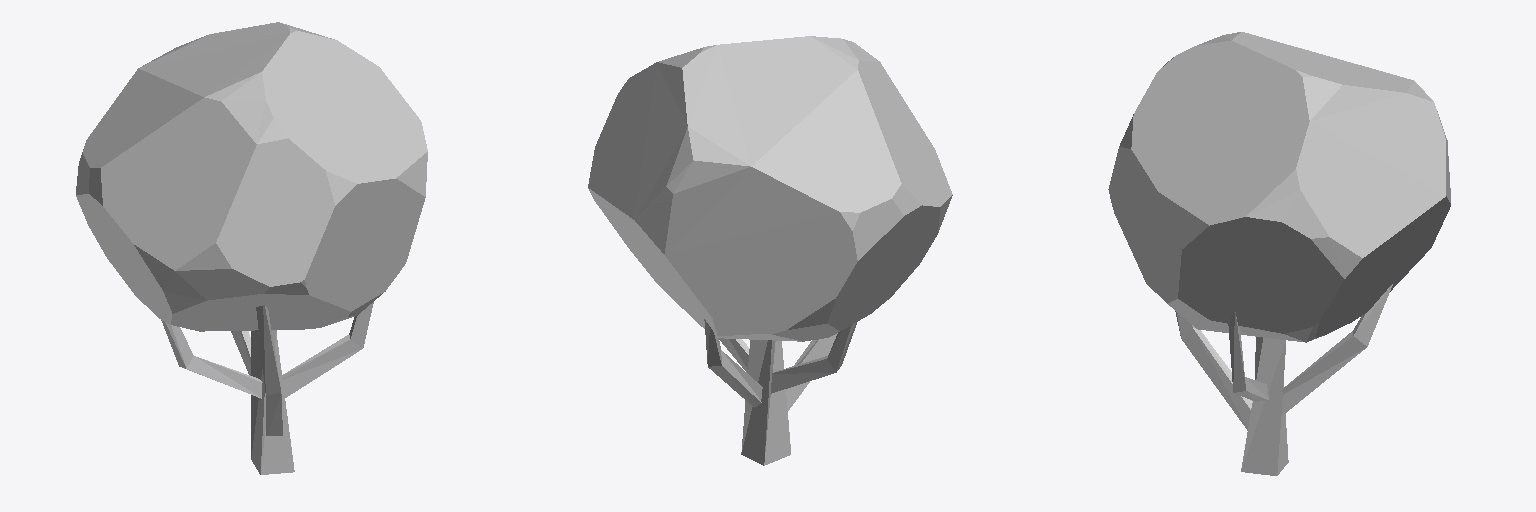
File: Tree.obj
The picture shows the model from 3 angles: view 1: azimuth 30°, elevation 25°; view 2: azimuth 150°, elevation 25°; view 3: azimuth 270°, elevation 25°; orthographic projection.
Parts seen in each view (by area): view 1: bush; view 2: bush; view 3: bush.
Part boxes in pixels (x1,y1,x2,y2): bush: (76,22,427,474); bush: (588,36,952,465); bush: (1108,32,1450,475).
Size of the model in its own units: 1.35 by 1.74 by 1.3.